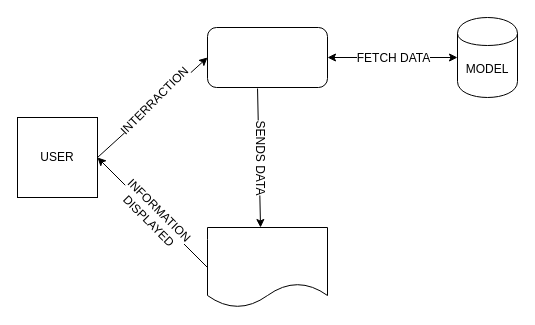
This 535x325 diagram has some shape labels left out. Each missing label, with the box of its shape:
CONTROLLER: (206, 26, 328, 88)
VIEW: (206, 226, 328, 308)
